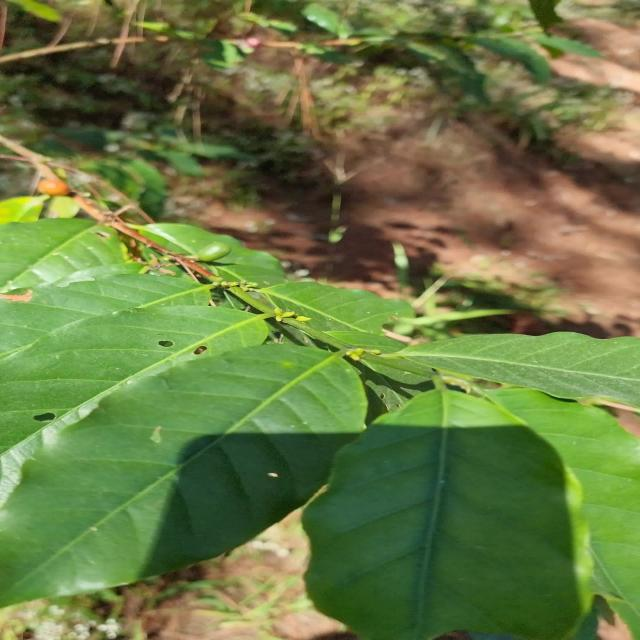leaves: (0, 309, 399, 628), (304, 390, 590, 640), (0, 253, 273, 456)
